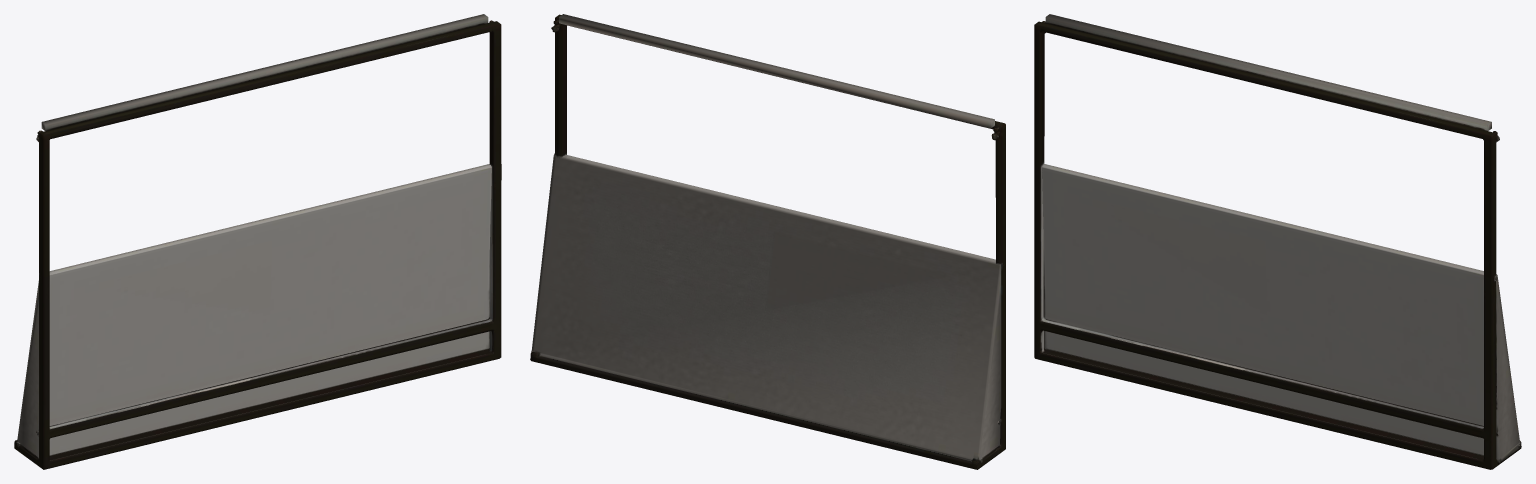
File: tall-blank-screen.glb
3 renders of one model, left to right at view 1: azimuth 30°, elevation 25°; view 2: azimuth 150°, elevation 25°; view 3: azimuth 330°, elevation 25°, orthographic. The views are drawn at different scales.
Parts seen in each view (by area): view 1: Warm Gray Imax Screen; view 2: Warm Gray Imax Screen; view 3: Warm Gray Imax Screen.
Boxes of the visible parts, left/top/right/bottom form: Warm Gray Imax Screen: left=14, top=14, right=501, bottom=469; Warm Gray Imax Screen: left=530, top=14, right=1005, bottom=469; Warm Gray Imax Screen: left=1034, top=14, right=1521, bottom=469.
Size of the model in its own units: 0.998 by 0.7051 by 0.1113.
Materials: 1 (1 with a texture image).
